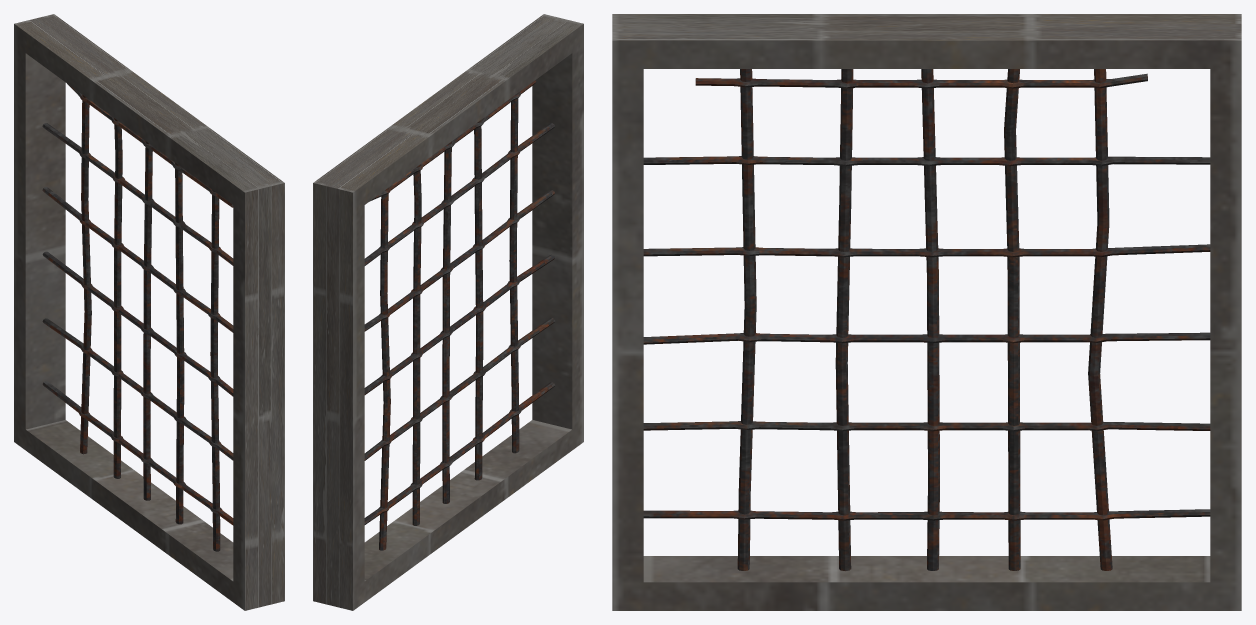
Rendered from wall_grating.fbx.
3 renders of one model, left to right at view 1: azimuth 30°, elevation 25°; view 2: azimuth 150°, elevation 25°; view 3: azimuth 270°, elevation 25°, orthographic. The views are drawn at different scales.
Parts seen in each view (by area): view 1: Grate; view 2: Grate; view 3: Grate.
Part boxes in pixels (x1=…): Grate: x1=14, y1=14, x2=284, y2=610; Grate: x1=313, y1=14, x2=583, y2=610; Grate: x1=612, y1=14, x2=1241, y2=610.
Size of the model in its own units: 20 by 200 by 200.
